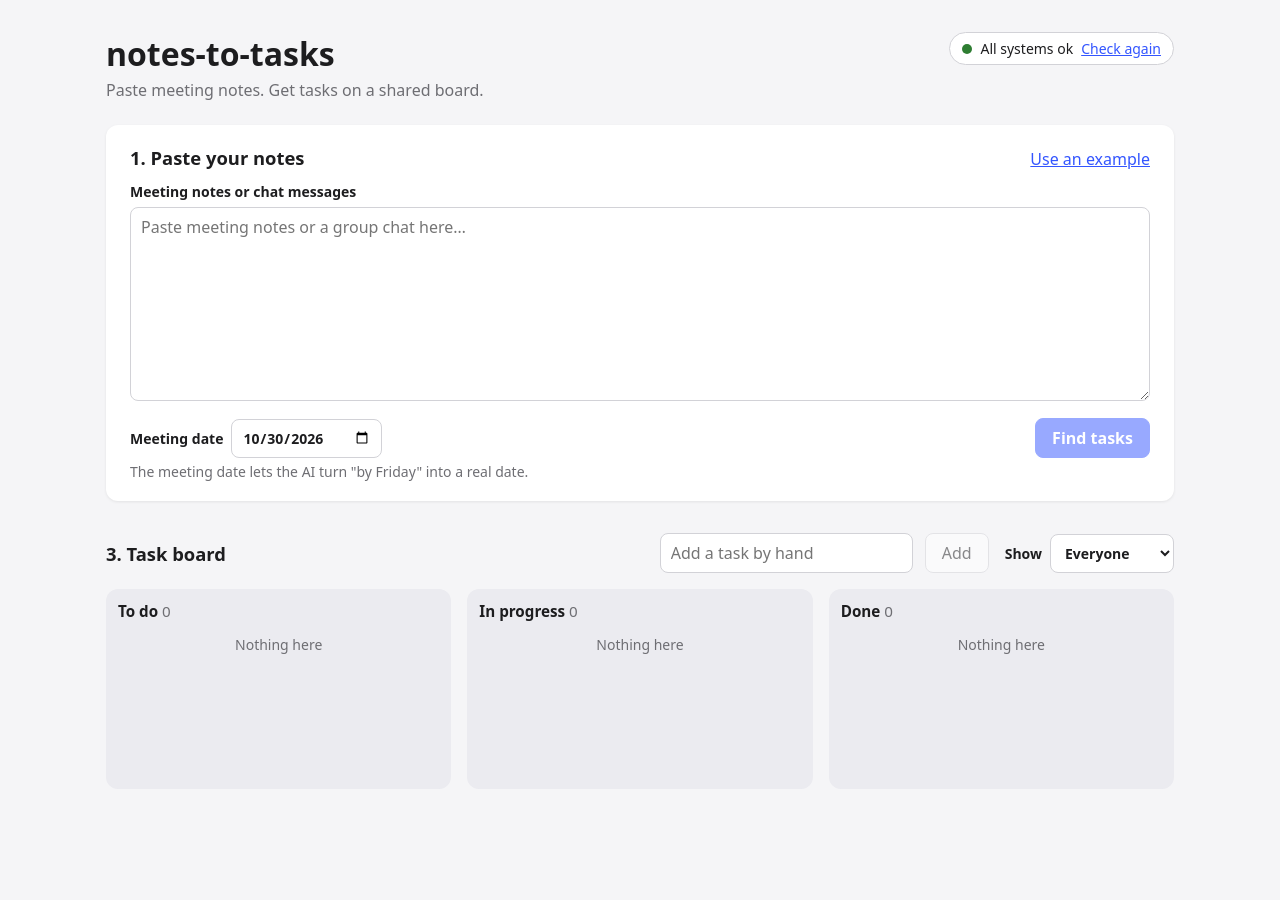
Test: App › shows the backend's error message when extraction fails
In the text box labelled "Meeting notes or chat messages": (640, 304) [130, 207, 1150, 401], type "some notes"
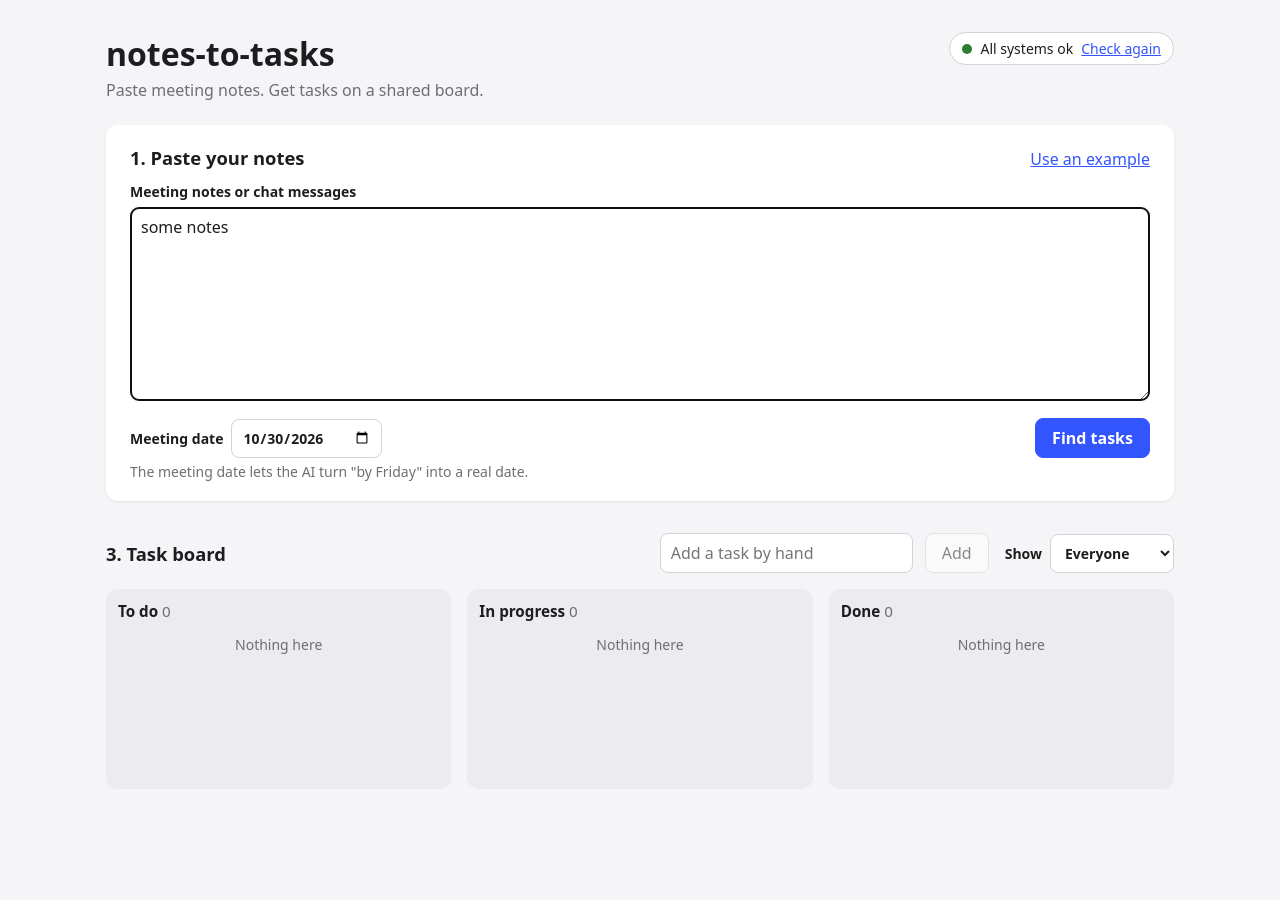
Click the button "Find tasks": (1093, 438) [1035, 418, 1150, 458]
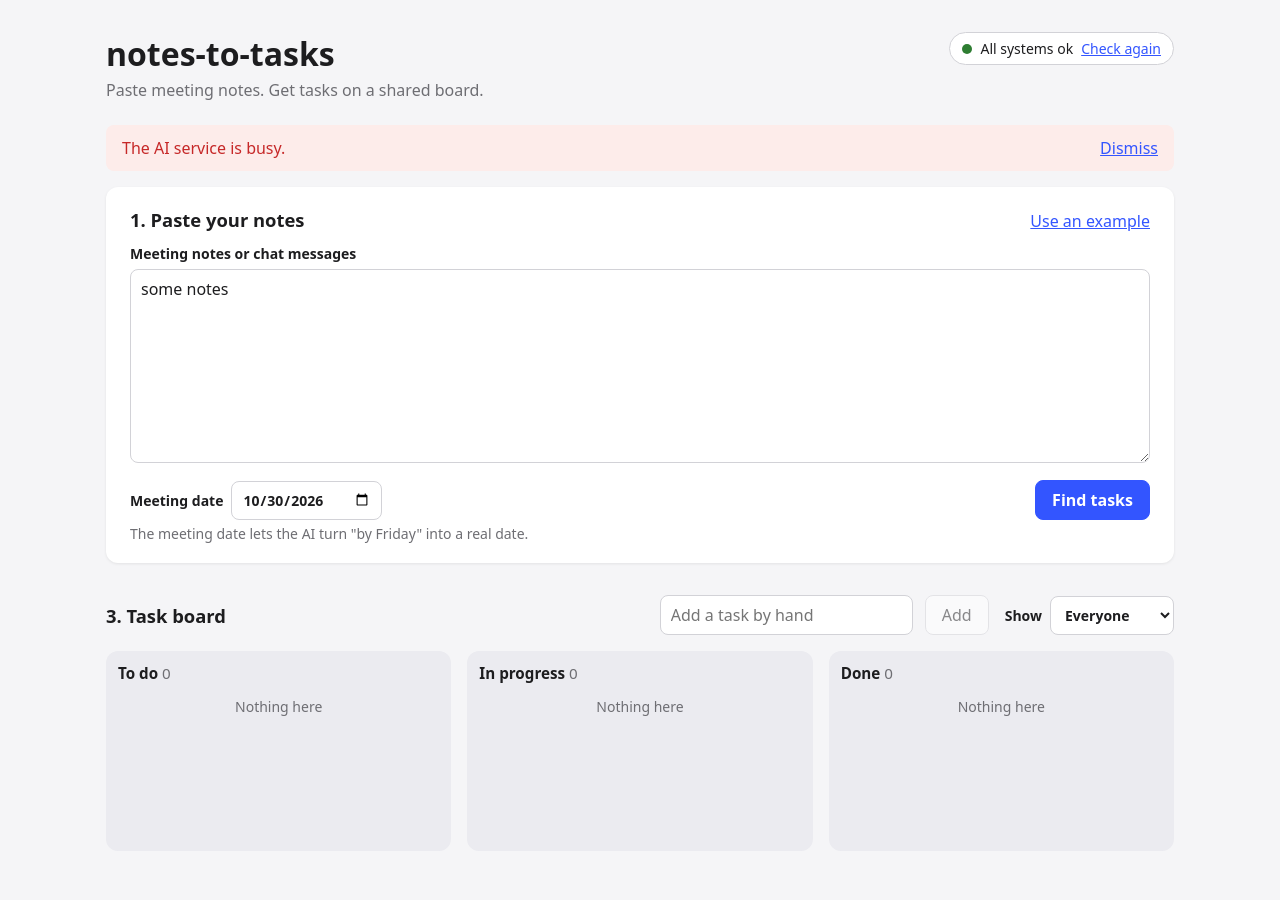
Expected: the message "The AI service is busy. Dismiss" is shown, [106, 125, 1174, 171]
